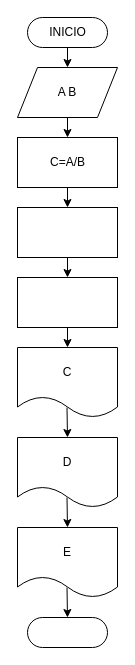
Some shapes in this 135 by 665 pixel diagram are drawn without their labels. The centre of each missing label's shape, as x and y in pixels:
D=A%B: (x=67, y=232)
E=A//B: (x=67, y=302)
FIN: (x=67, y=632)
